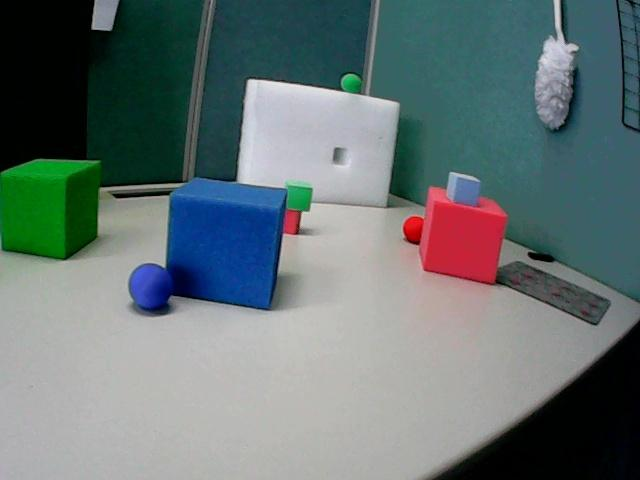blue_block: (167, 178, 286, 308), (446, 172, 480, 206)
red_block: (419, 187, 507, 283), (283, 209, 301, 234)
